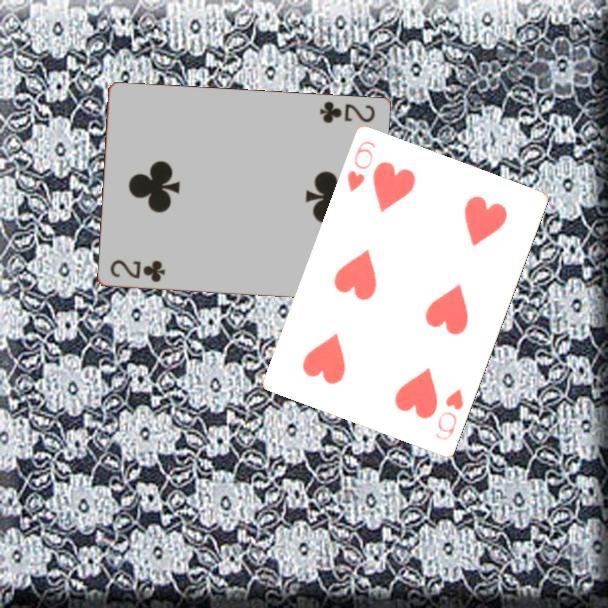c02: (106, 256, 168, 285), (316, 98, 377, 126)
h06: (432, 385, 466, 443), (344, 138, 378, 196)
